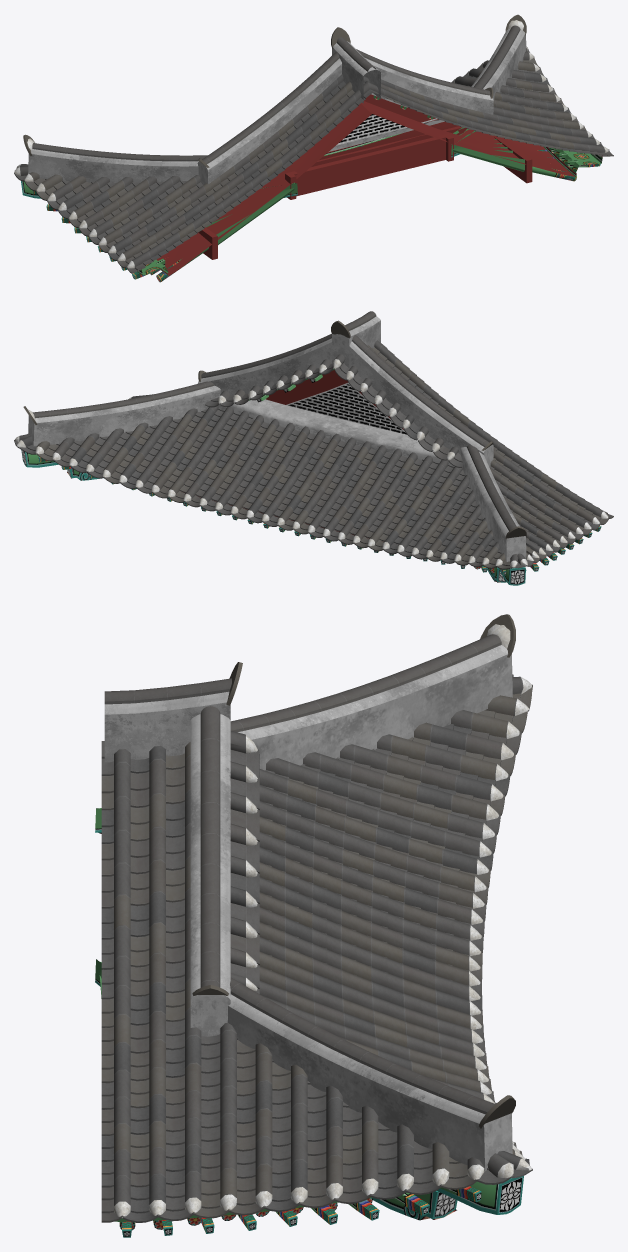
Rendered from SM_Gate_Roof04b.fbx.
The picture shows the model from 3 angles, top to bottom: view 1: azimuth 30°, elevation 25°; view 2: azimuth 150°, elevation 25°; view 3: azimuth 270°, elevation 25°; orthographic projection. The views are drawn at different scales.
Visible parts, largest first — view 1: SM_Gate_Roof04b; view 2: SM_Gate_Roof04b; view 3: SM_Gate_Roof04b.
Boxes of the visible parts, bbox=[...] form: SM_Gate_Roof04b: bbox=[14, 14, 613, 282]; SM_Gate_Roof04b: bbox=[14, 311, 613, 585]; SM_Gate_Roof04b: bbox=[95, 614, 532, 1237].
Size of the model in its own units: 1005 by 371 by 344.
Materials: 2 (2 with a texture image).
